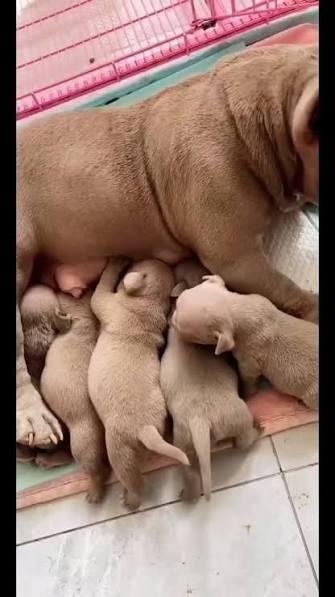adult_dog: (16, 45, 321, 322)
puppy-dog: (89, 258, 190, 511), (158, 304, 265, 502), (171, 274, 321, 412), (20, 283, 110, 506)
